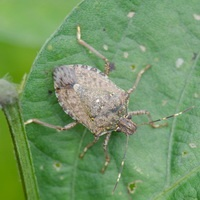insect: (22, 34, 199, 199), (125, 94, 196, 128)
